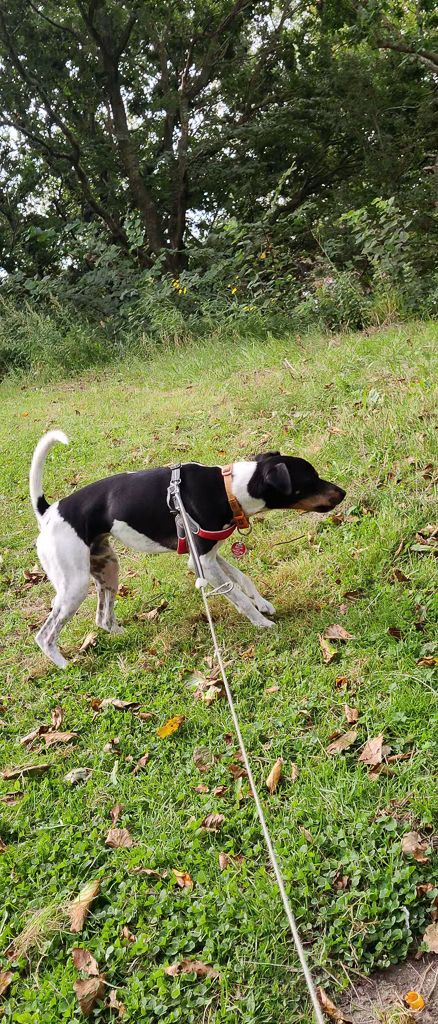Dog: (22, 425, 376, 685)
